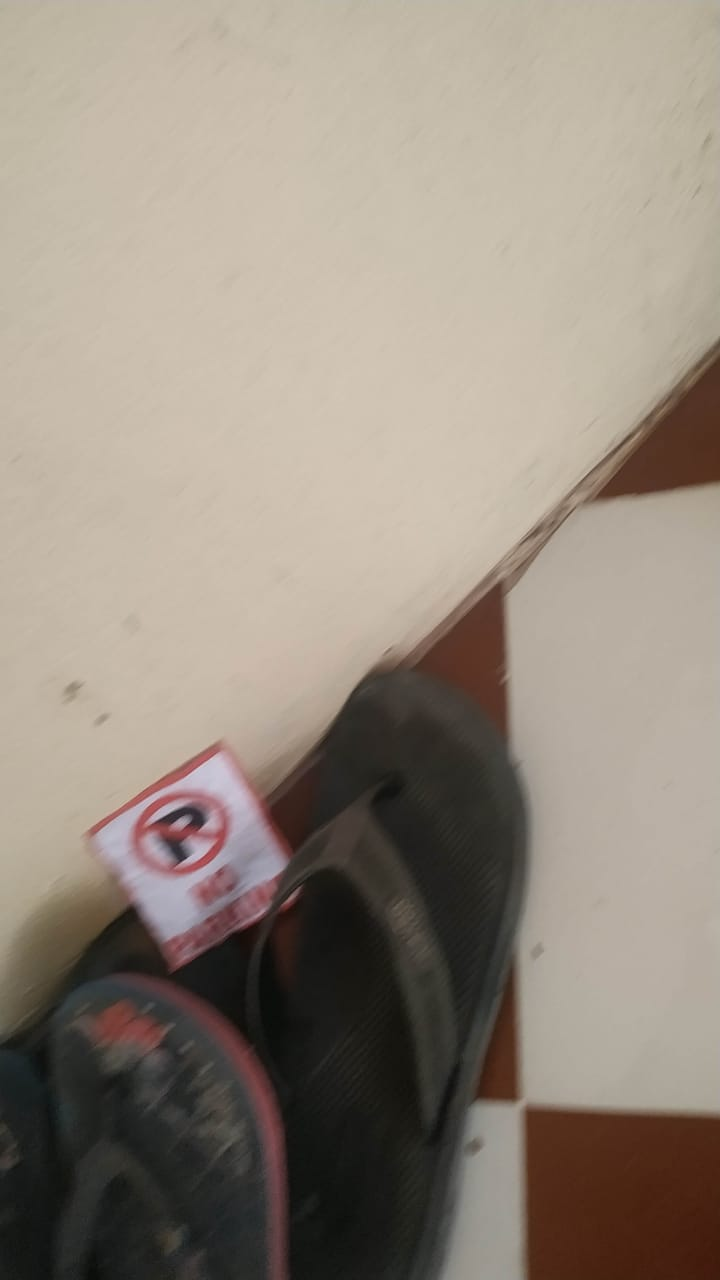NO PARKING: (74, 735, 316, 956)
